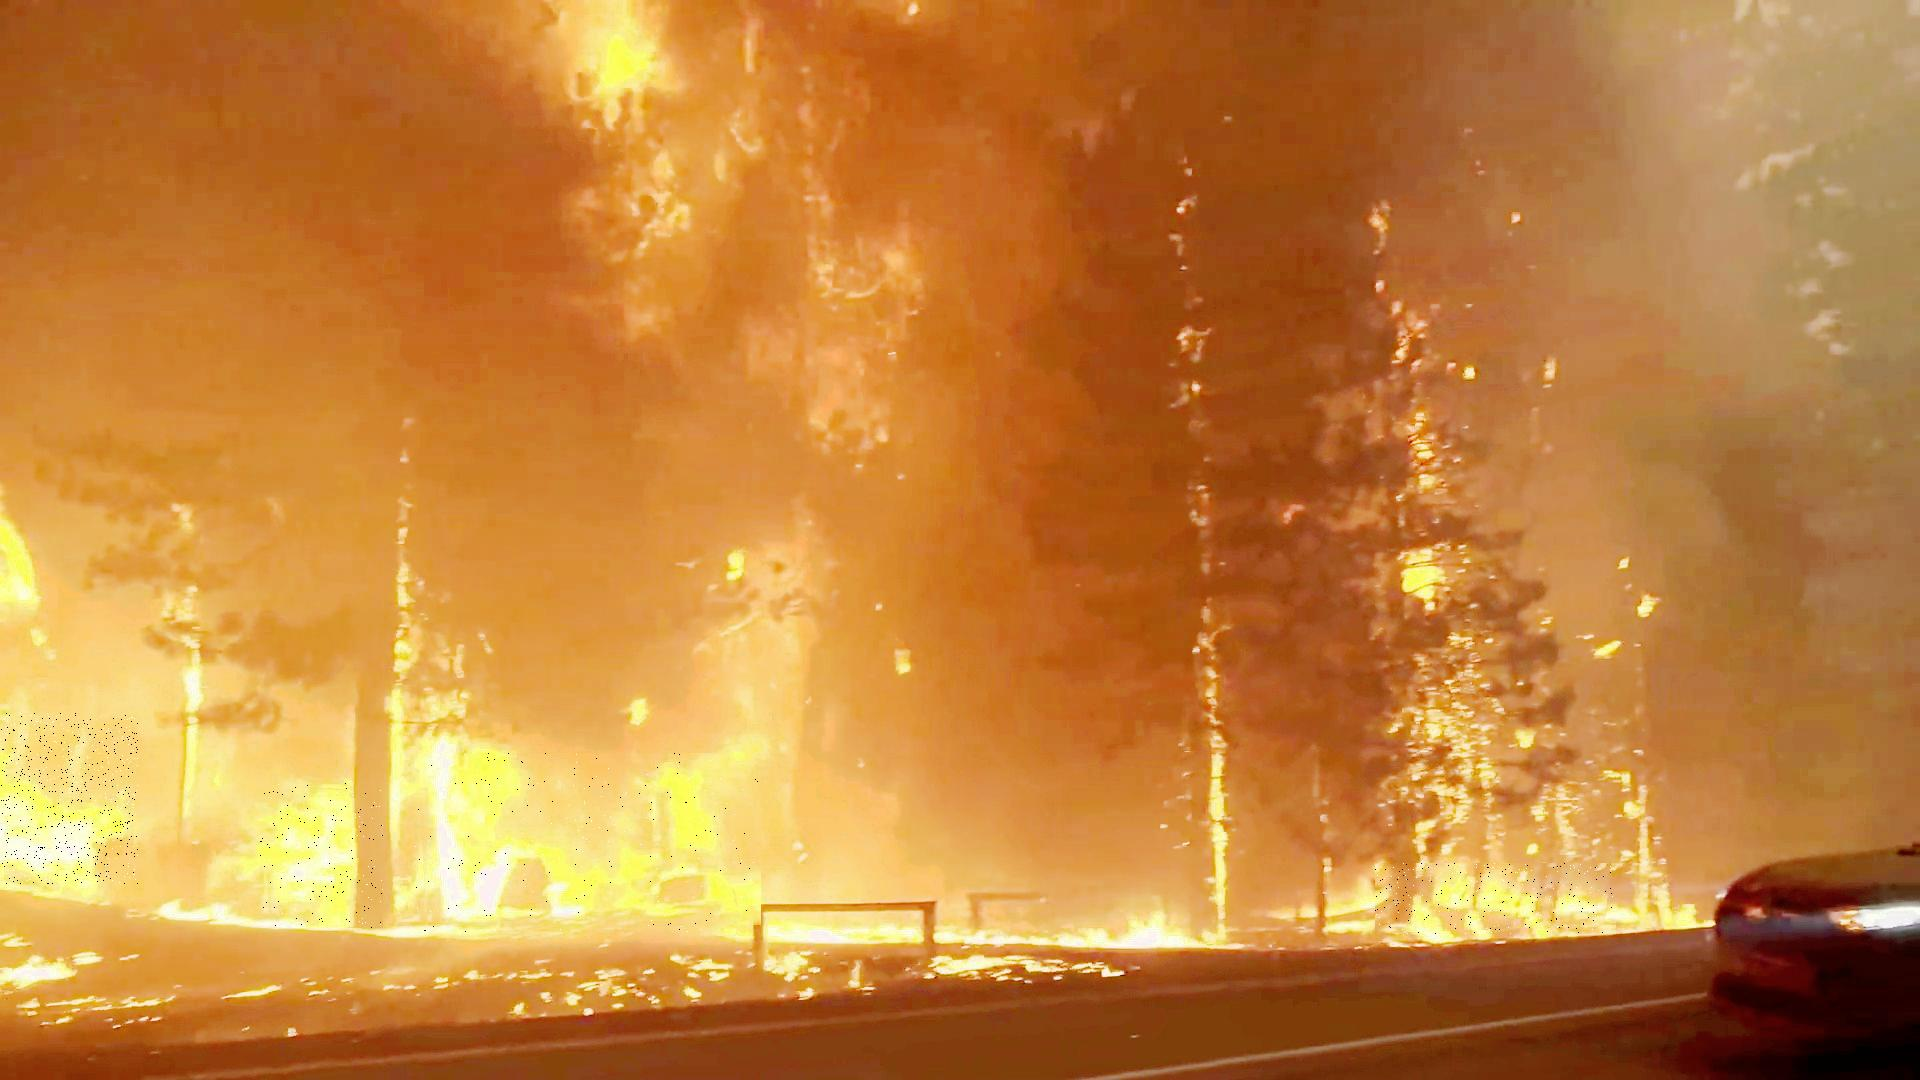fire: (415, 753, 761, 932), (0, 713, 138, 884), (260, 783, 383, 928), (1376, 863, 1615, 934)
